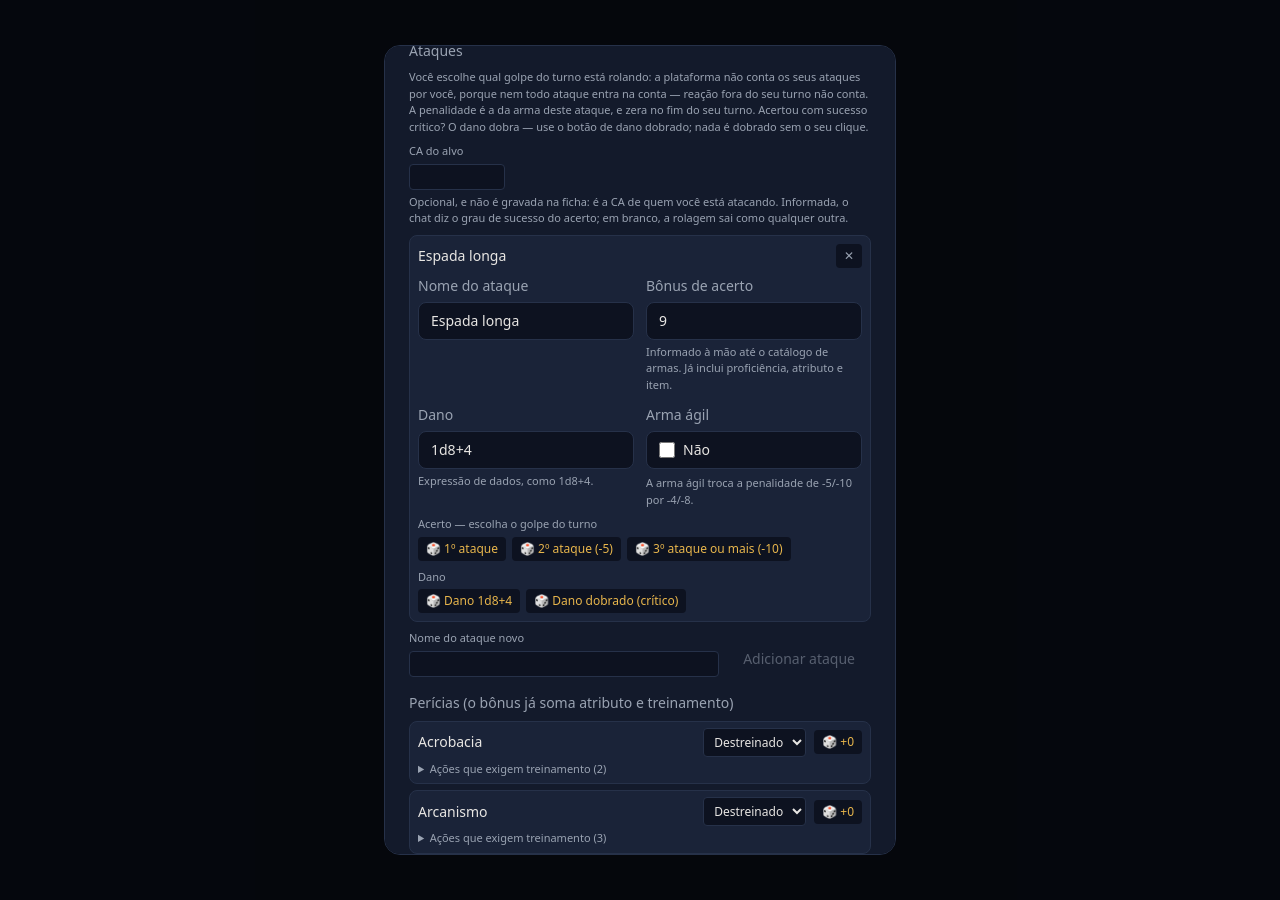
Test: os três botões de acerto (RV-156) › marcar a arma como ágil troca as expressões antes de salvar
The image size is (1280, 900).
(page scrolled)
expect the button with aria-label "Rolar 2º ataque (-5) de Espada longa (1d20+4)" is shown: met, box [512, 536, 621, 560]
expect the list item "Espada longa" is shown: met, box [418, 246, 506, 264]
Click the checkbox labelled "Arma ágil" at (667, 450), box [659, 442, 675, 458]
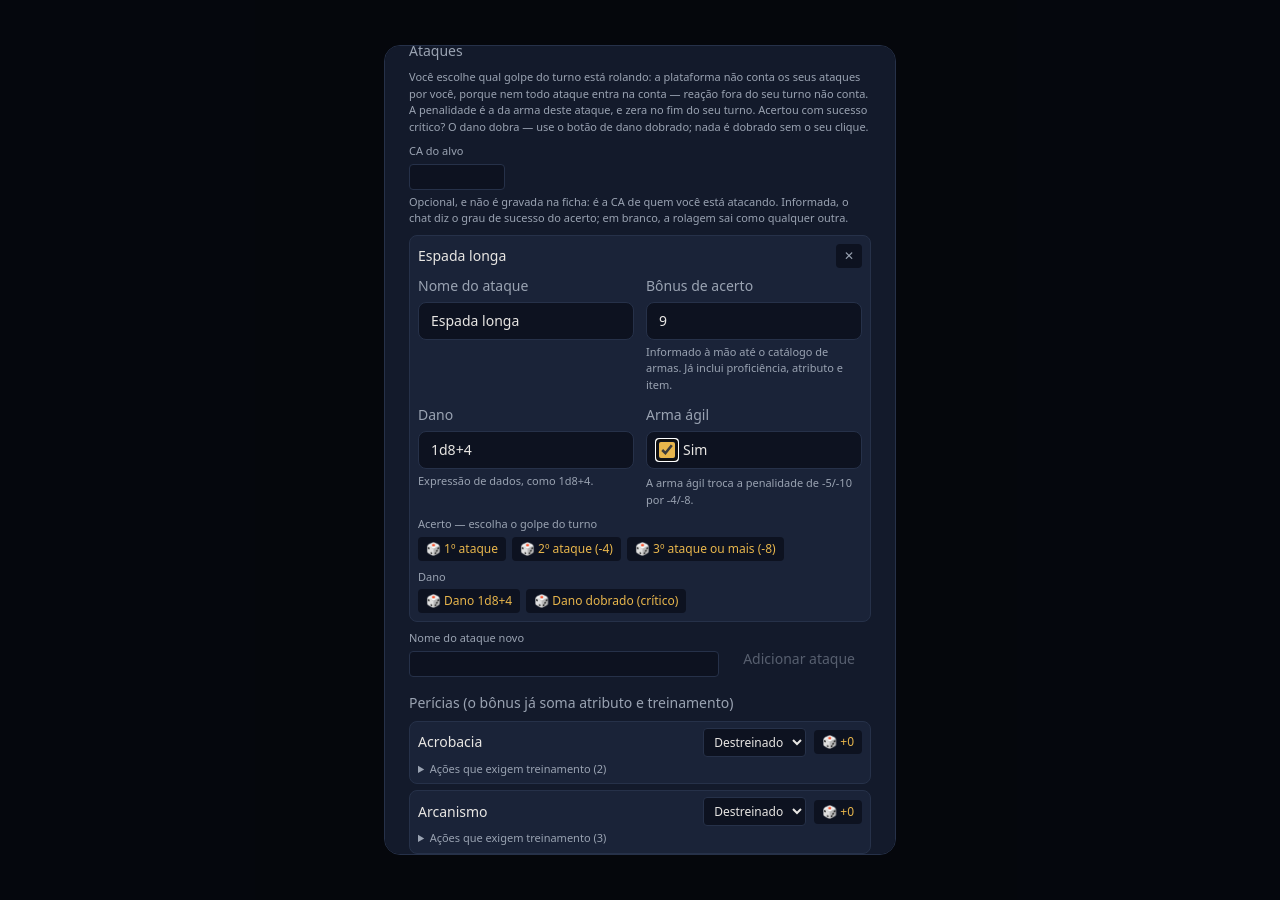
expect the list item "Espada longa" is shown: met, box [418, 246, 506, 264]
expect the button with aria-label "Rolar 2º ataque (-4) de Espada longa (1d20+5)" is shown: met, box [512, 536, 621, 560]
